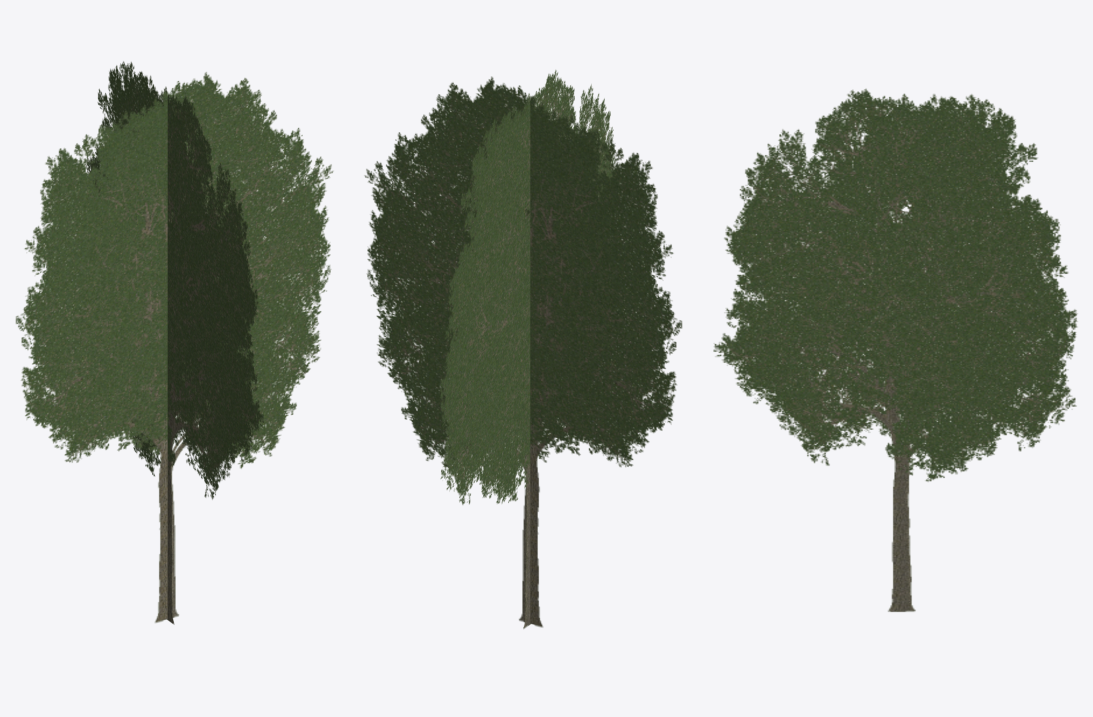
The model's file is TiliaAmericana.glb.
The picture shows the model from 3 angles, left to right: view 1: azimuth 30°, elevation 25°; view 2: azimuth 150°, elevation 25°; view 3: azimuth 270°, elevation 25°; orthographic projection. The views are drawn at different scales.
Visible parts, largest first — view 1: mesh__mat_billboard_5; view 2: mesh__mat_billboard_5; view 3: mesh__mat_billboard_5.
Boxes of the visible parts, left/top/right/bottom form: mesh__mat_billboard_5: left=15, top=61, right=333, bottom=624; mesh__mat_billboard_5: left=364, top=70, right=682, bottom=628; mesh__mat_billboard_5: left=713, top=89, right=1077, bottom=611.
Size of the model in its own units: 18.86 by 30.95 by 19.17.
1 material, 1 textured.
